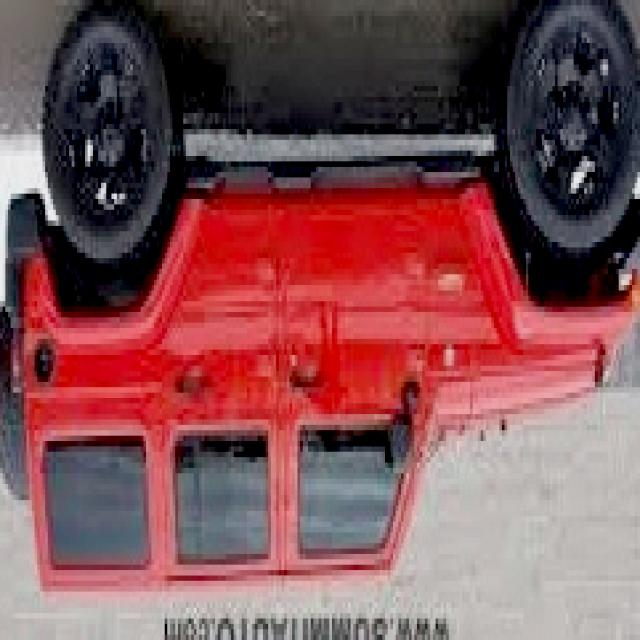red: (1, 93, 628, 578)
